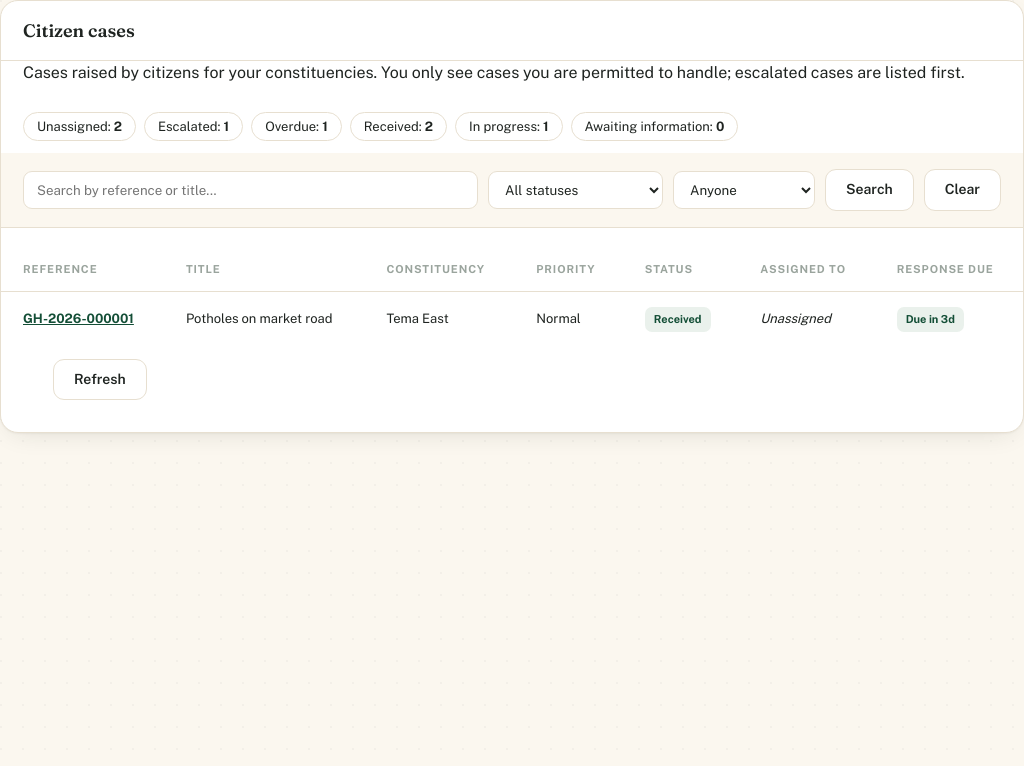
Case queue › opens a case from the queue
This screenshot has width=1024, height=766.
Click the button with aria-label "Open case GH-2026-000001": click(78, 319) 23,311 -> 134,326
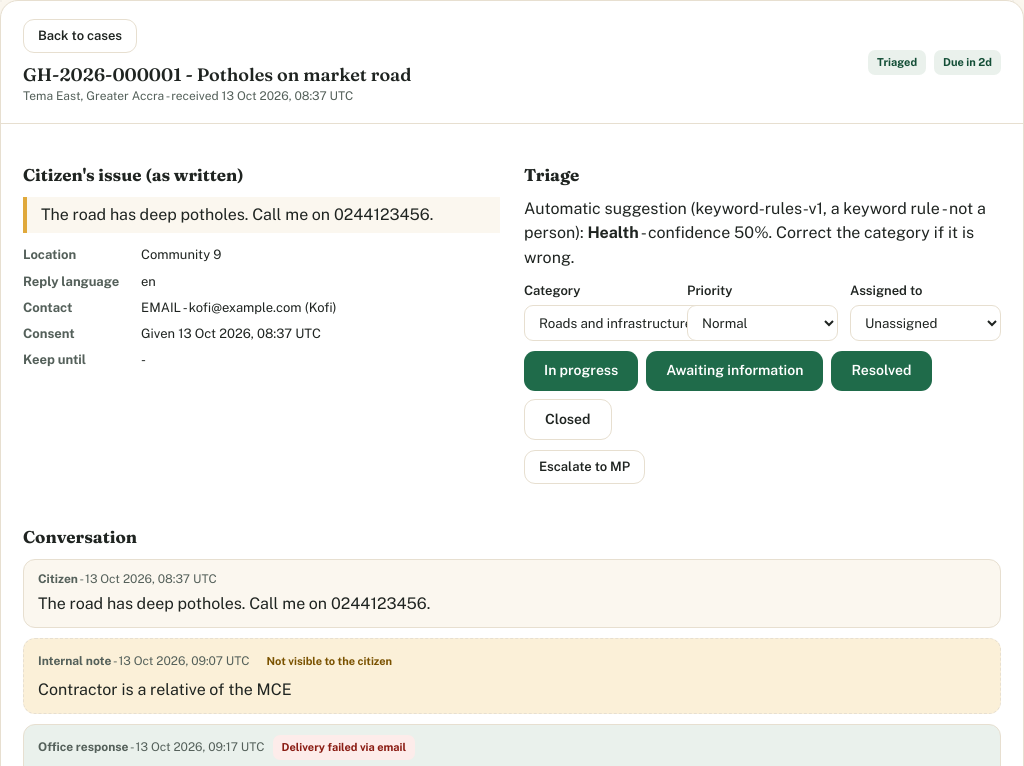
Result: the heading "GH-2026-000001 - Potholes on market road" is shown at 23,63 -> 411,87
